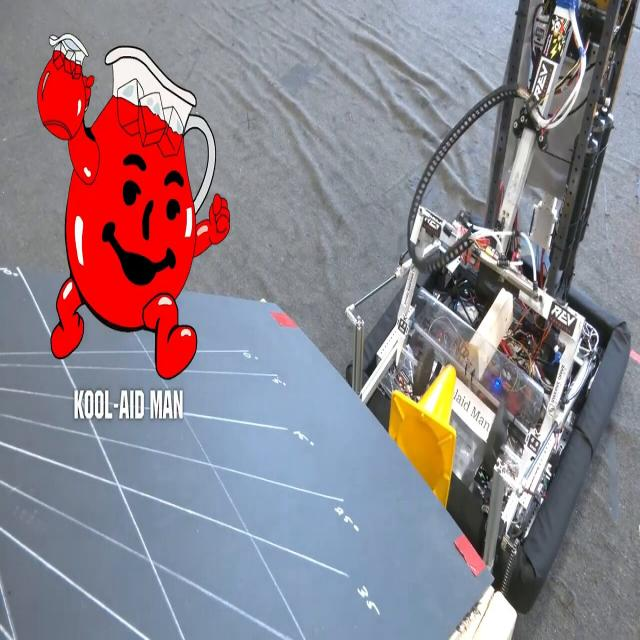frc_cone: (390, 359, 462, 502)
